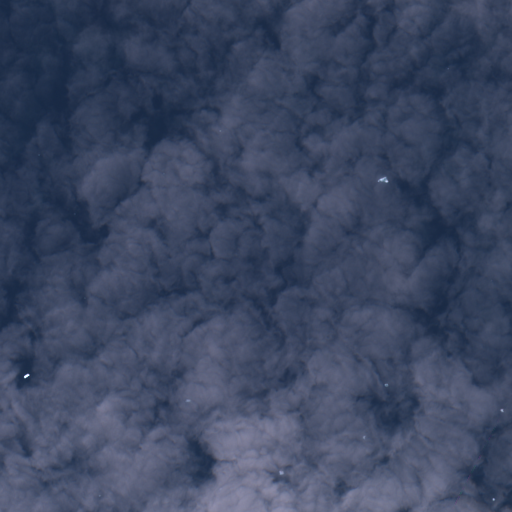Iceberg: (377, 177, 388, 182), (24, 373, 29, 378), (384, 383, 388, 386), (279, 471, 283, 474), (185, 399, 190, 401), (500, 408, 503, 411), (363, 435, 365, 438), (492, 498, 494, 500)
